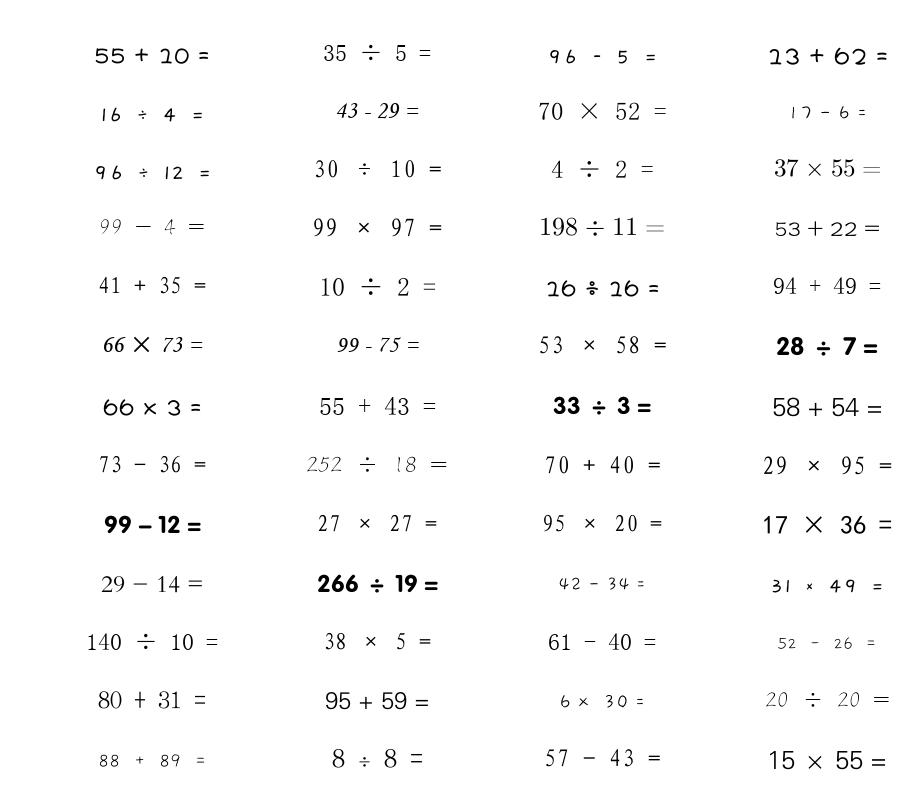MQ: (312, 218, 442, 237), (762, 456, 892, 475), (762, 515, 892, 534), (306, 456, 448, 473), (539, 217, 665, 236), (538, 102, 667, 120), (313, 160, 442, 178), (538, 336, 667, 354), (317, 574, 438, 593), (767, 751, 887, 770), (86, 633, 218, 650), (319, 277, 436, 296), (772, 397, 883, 417), (767, 47, 888, 65), (317, 514, 437, 532), (542, 514, 662, 532), (319, 397, 436, 415), (544, 456, 661, 474), (544, 749, 661, 767), (776, 336, 878, 356), (545, 280, 660, 297), (98, 276, 206, 294), (98, 455, 206, 473), (323, 632, 431, 650), (98, 691, 206, 709), (774, 159, 881, 177), (325, 692, 430, 710), (765, 692, 890, 707), (553, 396, 651, 415), (94, 48, 210, 64), (551, 160, 654, 178), (104, 515, 201, 534), (323, 44, 431, 61), (773, 277, 881, 294), (548, 633, 656, 650), (332, 748, 423, 768), (93, 165, 212, 180), (775, 220, 880, 237), (101, 576, 204, 593), (101, 336, 203, 353), (99, 219, 205, 235), (103, 399, 202, 416), (547, 49, 658, 64), (770, 579, 884, 593), (100, 107, 205, 122), (98, 754, 207, 768), (335, 103, 419, 119), (777, 637, 877, 650), (559, 694, 645, 709), (336, 337, 419, 352), (558, 577, 646, 591), (787, 106, 867, 120)
